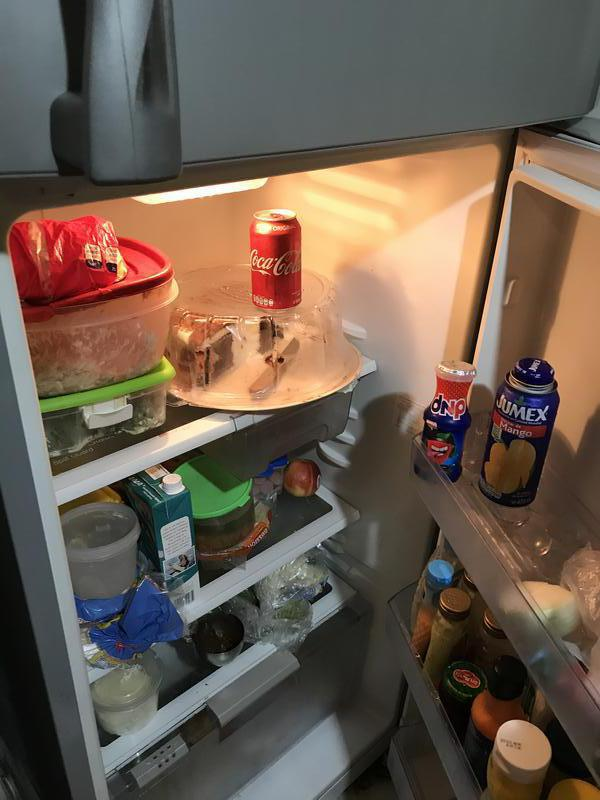coca_cola: (249, 208, 301, 310)
danup: (422, 362, 472, 488)
jugo_jumex: (484, 357, 557, 508)
